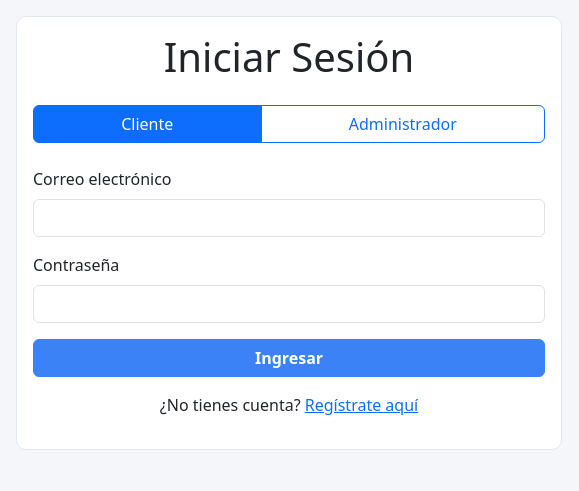
Test: Login › informa credenciales incorrectas si el usuario no existe
Type "ana@gmail.com" into the field labelled "Correo electrónico". click: (289,218)
box: [33, 199, 545, 237]
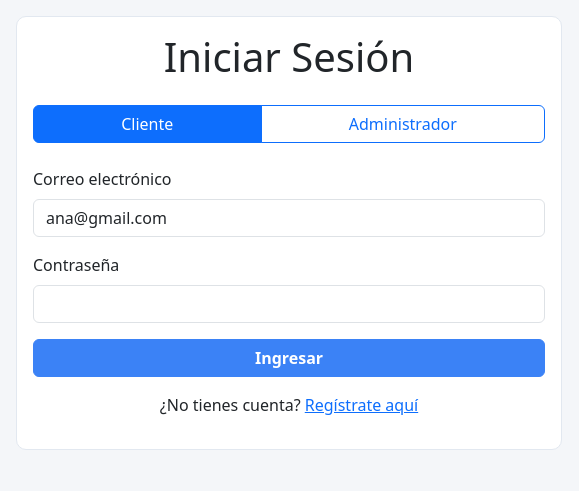
Type "1234" into the password field labelled "Contraseña". click: (289,304)
box: [33, 285, 545, 323]
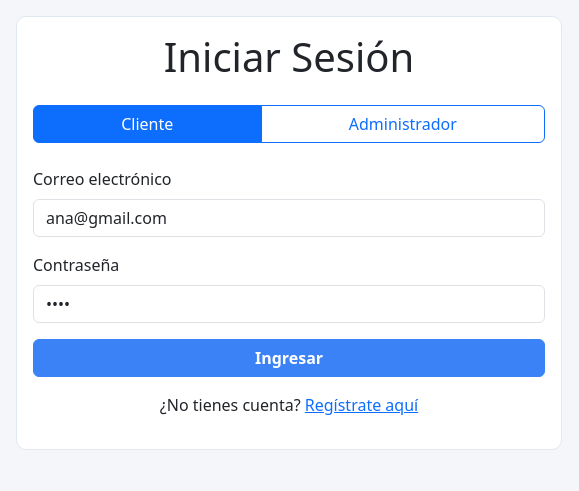
Submit the text "Ingresar", box [33, 167, 545, 377]
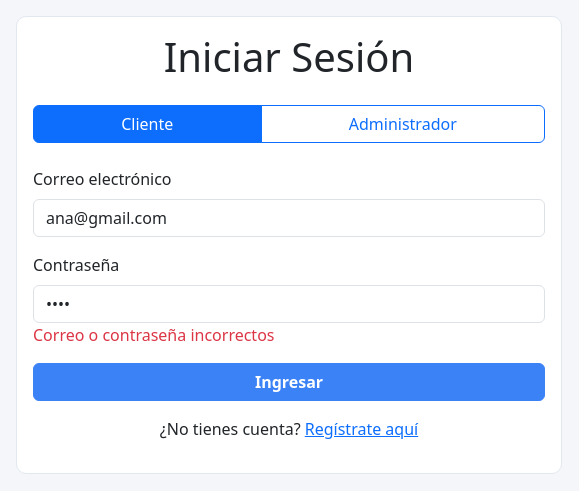
expect the text "Correo o contraseña incorrectos" is shown: met, box [33, 324, 274, 346]
